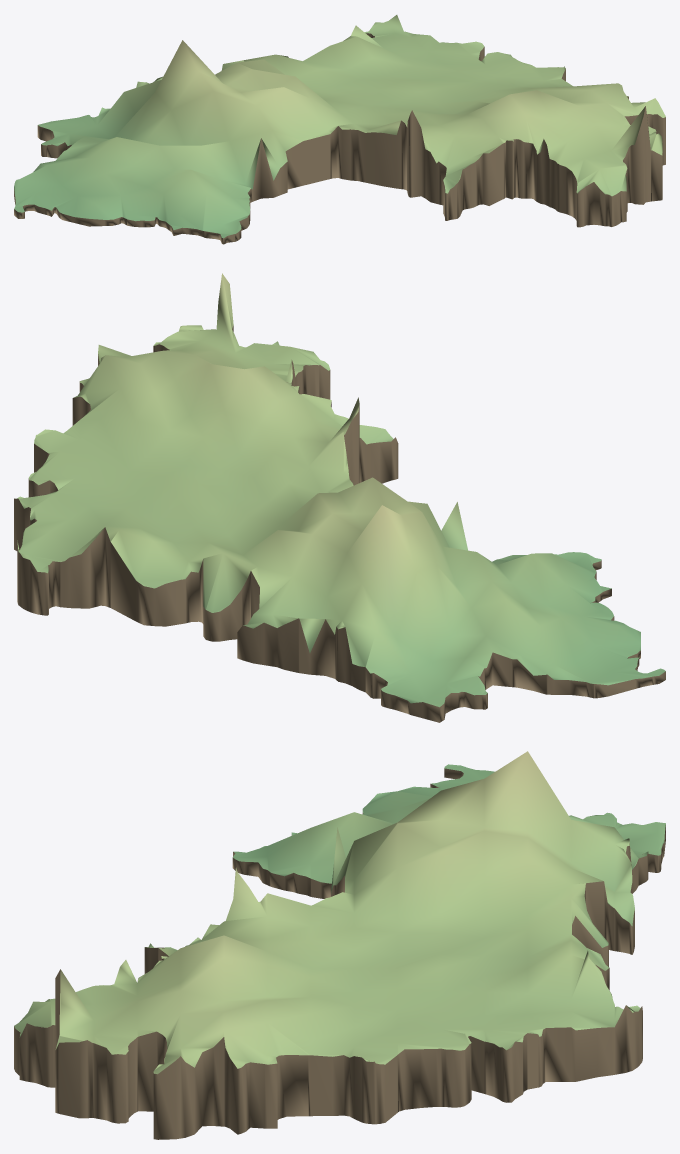
Rendered from GIN.glb.
3 renders of one model, top to bottom at view 1: azimuth 30°, elevation 25°; view 2: azimuth 150°, elevation 25°; view 3: azimuth 270°, elevation 25°, orthographic. The views are drawn at different scales.
Visible parts, largest first — view 1: GIN; view 2: GIN; view 3: GIN.
Boxes of the visible parts, x1,y1,x2,y2 form: GIN: [14, 15, 665, 244]; GIN: [14, 273, 665, 722]; GIN: [14, 751, 665, 1139].
Size of the model in its own units: 1.73 by 0.338 by 1.3.
